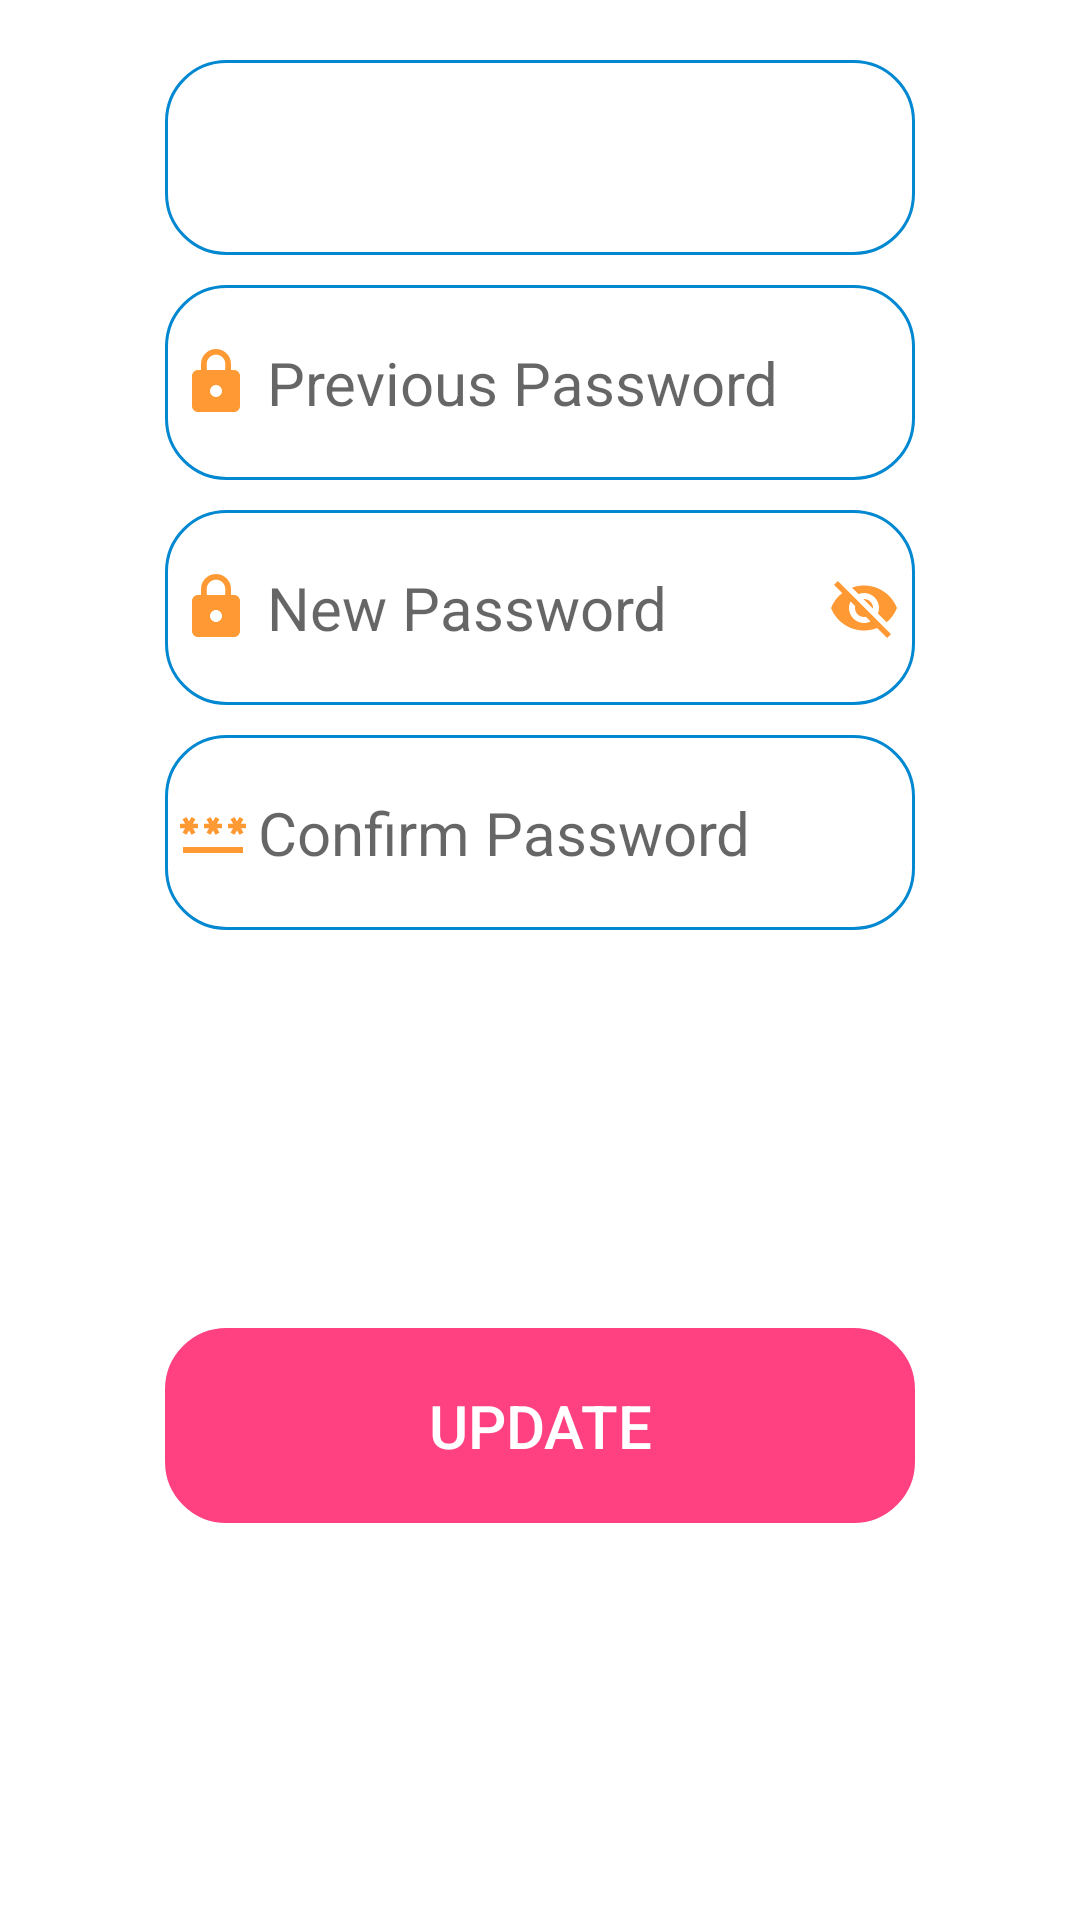

Icons on this 1080x1920 Android screen, each with its box as (x1, y1, x2, y2):
visibility off: (831, 581, 897, 638)
